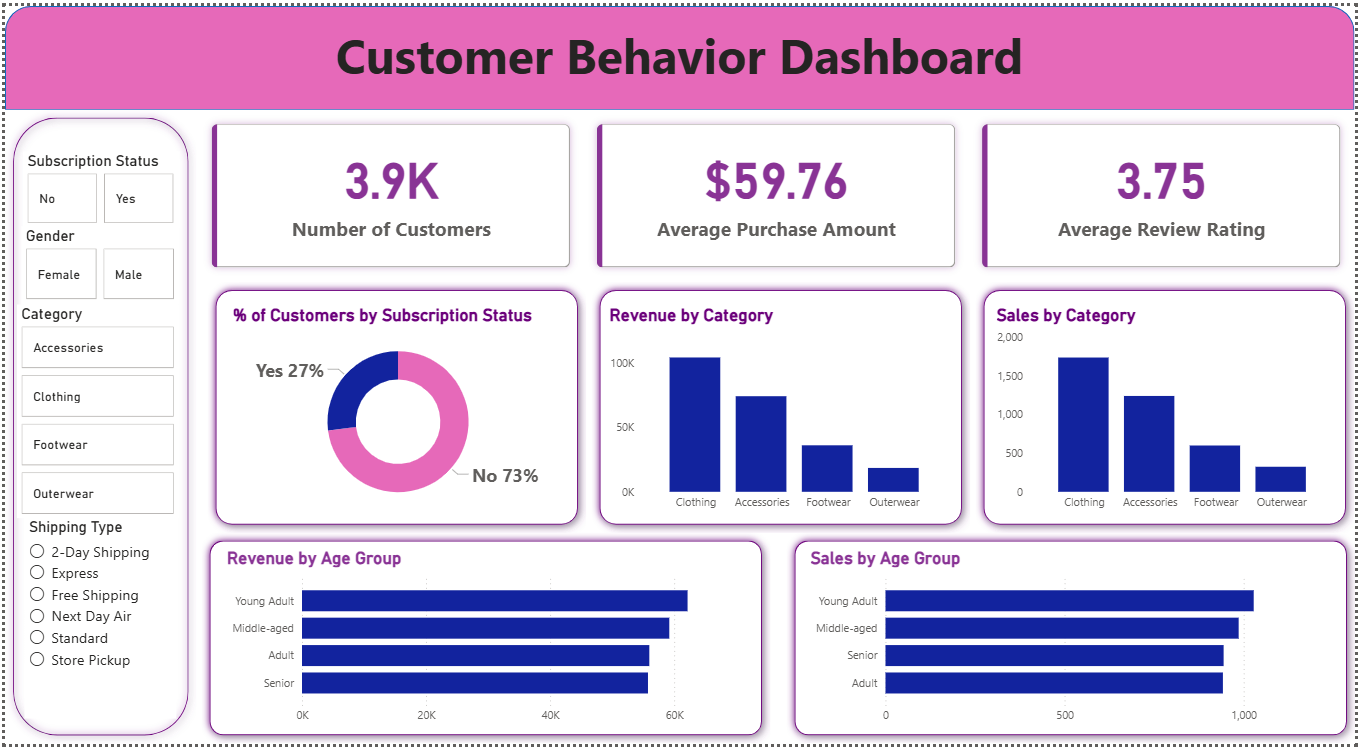

This screenshot's page, from the dashboard's own definition file:
{"tool":"powerbi","page":{"name":"Page 1","canvas":[1500,820],"ordinal":0},"visuals":[{"type":"cardVisual","fields":{"Data":["public customer.Number of Customers","public customer.Average Purchase Amount","public customer.Average Review Rating"]},"box":[212.9,115.3,1286.5,191.6],"z":2000},{"type":"shape","box":[218.3,585.6,631.7,234.2],"z":2500,"group":"g1"},{"type":"shape","box":[0,0,1499.4,115.3],"z":3000},{"type":"textbox","box":[0,12.5,1498.8,84.4],"z":4000},{"type":"shape","box":[225.4,307,420.5,278.6],"z":5000},{"type":"donutChart","title":"% of Customers by Subscription Status","fields":{"Category":["public customer.subscription_status"],"Y":["CountNonNull(public customer.customer_id)"]},"box":[248.4,331.8,376.2,237.8],"z":6000},{"type":"shape","box":[1078.9,307,420.5,278.6],"z":7000},{"type":"shape","box":[652.1,307,420.5,278.6],"z":8000},{"type":"clusteredColumnChart","title":"Revenue by Category","fields":{"Y":["Sum(public customer.purchase_amount)"],"Category":["public customer.category"]},"box":[667.2,331.8,385.1,237.8],"z":9000},{"type":"clusteredColumnChart","title":"Sales by Category","fields":{"Y":["CountNonNull(public customer.customer_id)"],"Category":["public customer.category"]},"box":[1096.6,331.8,385.1,237.8],"z":10000},{"type":"shape","box":[0,115.3,212.9,704.5],"z":11000},{"type":"advancedSlicerVisual","fields":{"Values":["public customer.subscription_status"]},"box":[19.5,161.5,173.9,85.2],"z":12000},{"type":"advancedSlicerVisual","fields":{"Values":["public customer.gender"]},"box":[18.8,245.4,175,86],"z":13000},{"type":"advancedSlicerVisual","fields":{"Values":["public customer.category"]},"box":[14.1,331.3,179.7,237.6],"z":14000},{"type":"listSlicer","fields":{"Values":["public customer.shipping_type"]},"box":[21.9,568.9,168.8,223.5],"z":15000},{"type":"shape","box":[867.7,585.6,631.7,234.2],"z":16000},{"type":"clusteredBarChart","title":"Sales by Age Group","fields":{"Y":["CountNonNull(public customer.customer_id)"],"Category":["public customer.age_group"]},"box":[890.8,601.5,585.6,204.1],"z":17000},{"type":"clusteredBarChart","title":"Revenue by Age Group","fields":{"Y":["Sum(public customer.purchase_amount)"],"Category":["public customer.age_group"]},"box":[241.4,601.6,585.6,204.1],"z":17500,"group":"g1"},{"type":"group","id":"g1","title":"Group 1","box":[218.3,585.6,631.7,234.2],"z":17501}]}

Visuals, with their boxes in screenshot pixels (x1, y1, x2, y2), scaled from the page's 1500x820 canvas onto the 1360x748 screenshot:
cardVisual - public customer.Number of Customers x public customer.Average Purchase Amount: (193,105,1359,280)
shape: (198,534,771,747)
shape: (0,0,1359,105)
textbox: (0,11,1359,88)
shape: (204,280,586,534)
"% of Customers by Subscription Status" donutChart: (225,303,566,520)
shape: (978,280,1359,534)
shape: (591,280,972,534)
"Revenue by Category" clusteredColumnChart: (605,303,954,520)
"Sales by Category" clusteredColumnChart: (994,303,1343,520)
shape: (0,105,193,747)
advancedSlicerVisual - public customer.subscription_status: (18,147,175,225)
advancedSlicerVisual - public customer.gender: (17,224,176,302)
advancedSlicerVisual - public customer.category: (13,302,176,519)
listSlicer - public customer.shipping_type: (20,519,173,723)
shape: (787,534,1359,747)
"Sales by Age Group" clusteredBarChart: (808,549,1339,735)
"Revenue by Age Group" clusteredBarChart: (219,549,750,735)
"Group 1" group: (198,534,771,747)
